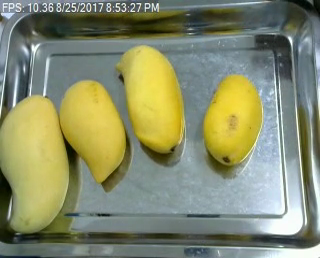Mango: (0, 92, 70, 236), (113, 43, 188, 151), (59, 80, 129, 183), (199, 70, 267, 166)
